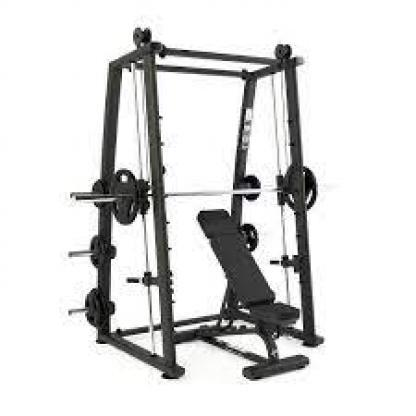smith machine: (68, 25, 325, 382)
